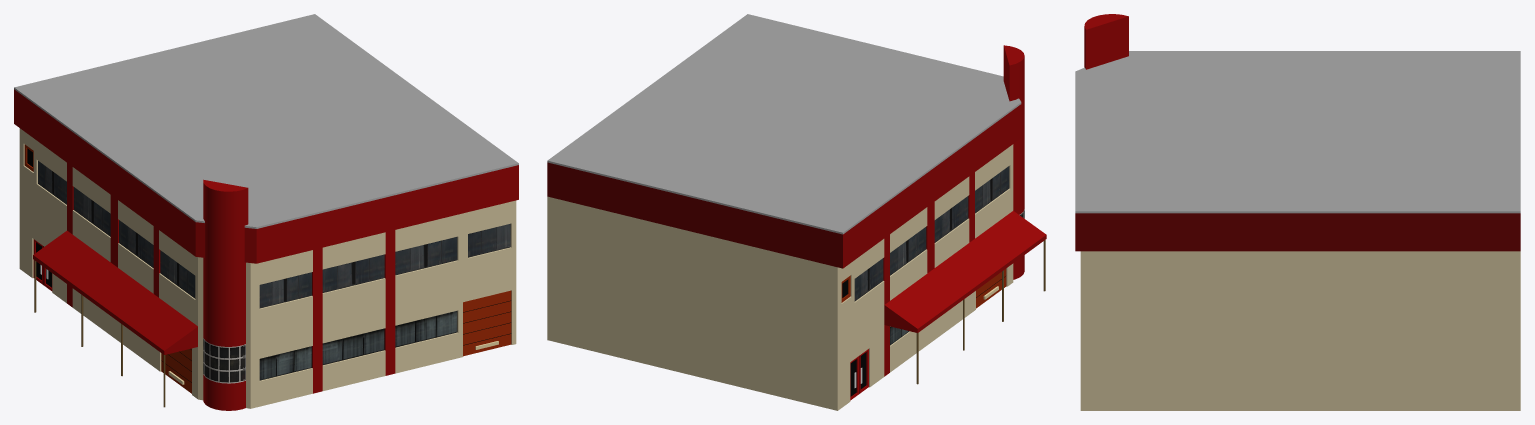
3 renders of one model, left to right at view 1: azimuth 30°, elevation 25°; view 2: azimuth 150°, elevation 25°; view 3: azimuth 270°, elevation 25°, orthographic. The views are drawn at different scales.
Visible parts, largest first — view 1: EB-016; view 2: EB-016; view 3: EB-016.
Boxes of the visible parts, x1=… form: EB-016: x1=14, y1=14, x2=518, y2=410; EB-016: x1=547, y1=14, x2=1046, y2=410; EB-016: x1=1075, y1=14, x2=1520, y2=410.
Size of what is drawn, in the model's own units: 18.87 by 12 by 20.23.
